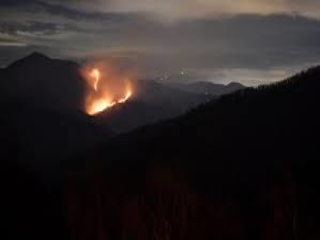fire: (83, 67, 141, 119)
